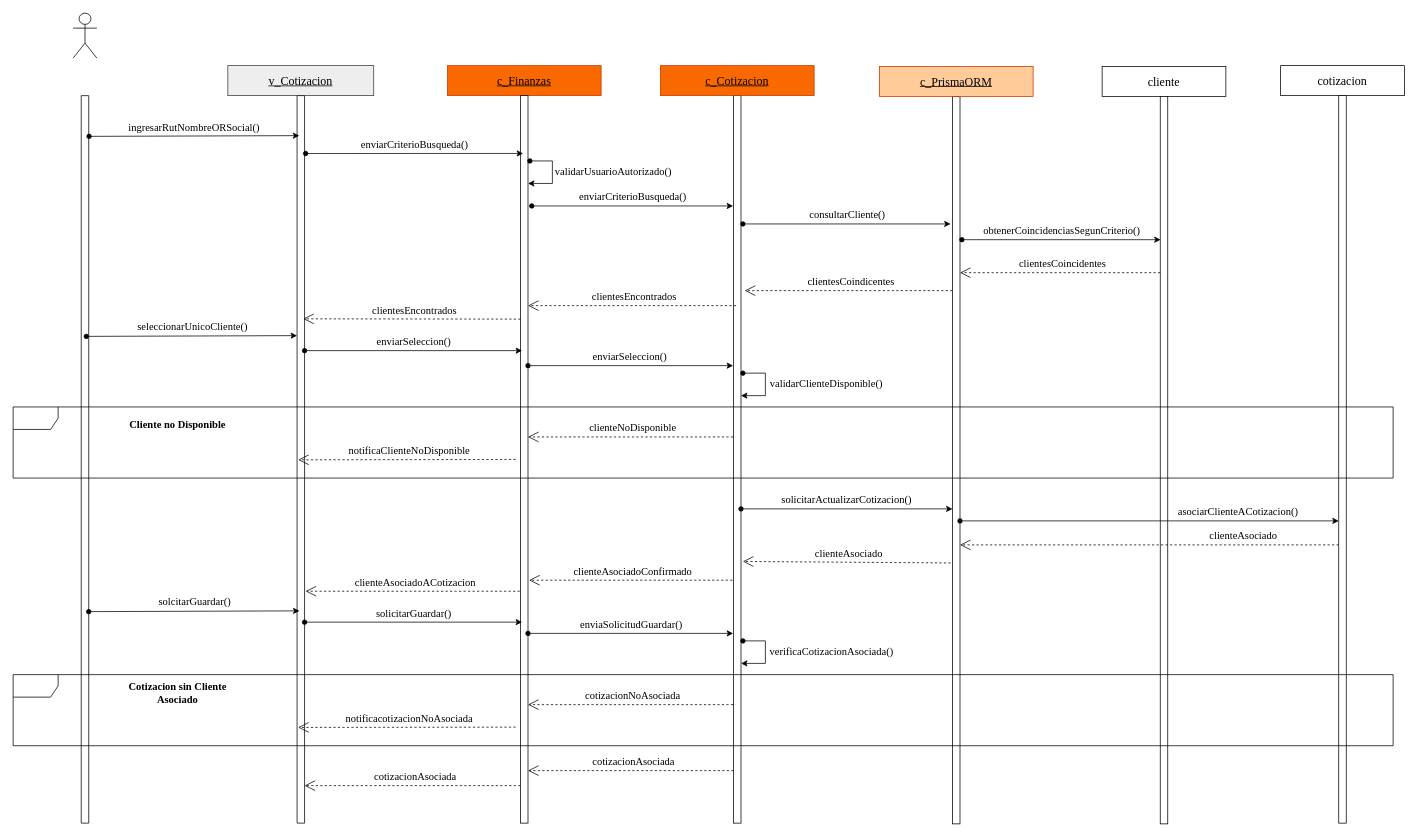
The diagram is 1418 pixels wide and 837 high, and some of its shapes have lost their labels. The box of each missing label's shape, as (x1, y1, x2, y2) in pixels:
Exc1: (12, 406, 1393, 478)
Exc2: (12, 674, 1393, 746)
Usuario Autorizado Gerencia o Secretaria: (72, 12, 97, 58)
